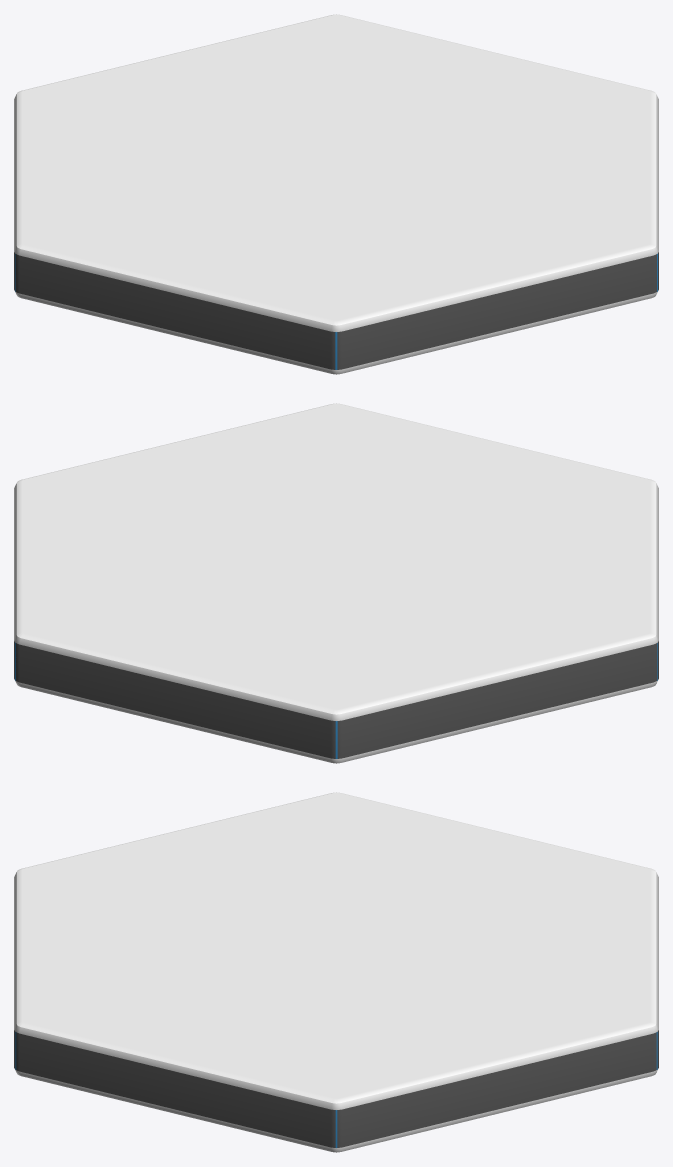
File: CastleBlocks_02.fbx
The picture shows the model from 3 angles, top to bottom: view 1: azimuth 30°, elevation 25°; view 2: azimuth 150°, elevation 25°; view 3: azimuth 270°, elevation 25°; orthographic projection.
Visible parts, largest first — view 1: Block_hx_stone; view 2: Block_hx_stone; view 3: Block_hx_stone.
Part boxes in pixels (x1=…): Block_hx_stone: x1=14, y1=14, x2=658, y2=374; Block_hx_stone: x1=14, y1=403, x2=658, y2=763; Block_hx_stone: x1=14, y1=792, x2=658, y2=1152.
Bounding box in the file's own units: 1.81 × 0.1441 × 1.57.
